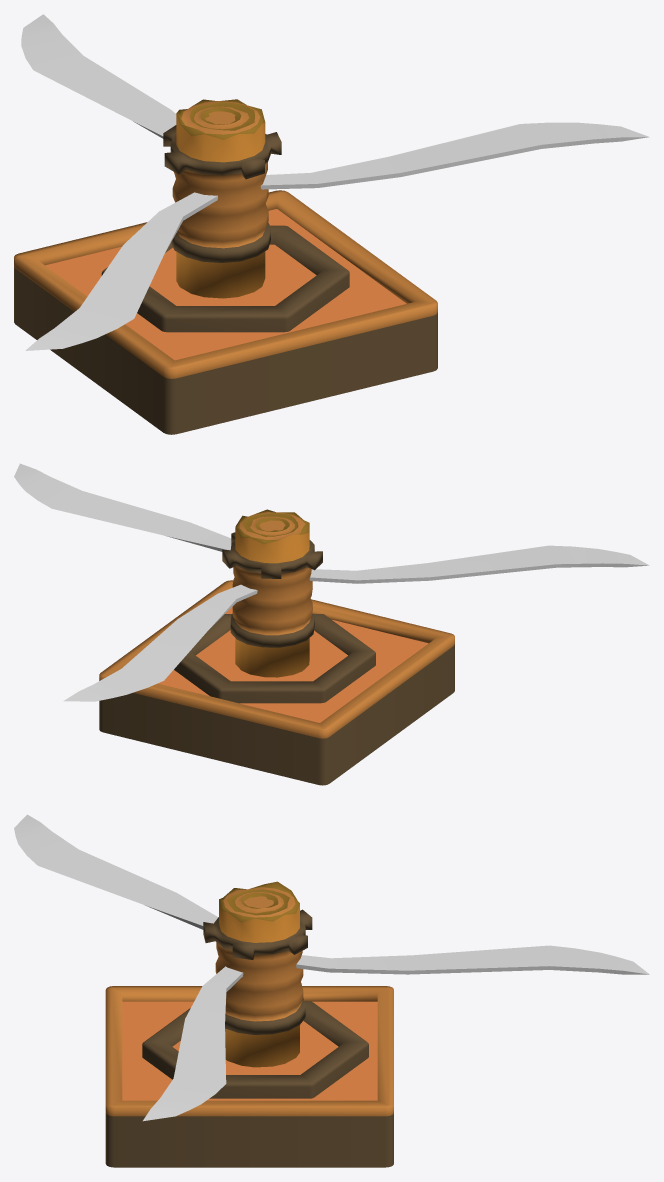
Rendered from Knife_1.fbx.
The picture shows the model from 3 angles, top to bottom: view 1: azimuth 30°, elevation 25°; view 2: azimuth 150°, elevation 25°; view 3: azimuth 270°, elevation 25°; orthographic projection. The views are drawn at different scales.
Visible parts, largest first — view 1: Rotary_knife_1, Knife_1; view 2: Rotary_knife_1, Knife_1; view 3: Rotary_knife_1, Knife_1.
Boxes of the visible parts, x1,y1,x2,y2 form: Rotary_knife_1: [14, 99, 437, 434]; Knife_1: [21, 14, 648, 350]; Rotary_knife_1: [99, 509, 454, 785]; Knife_1: [14, 463, 649, 701]; Rotary_knife_1: [105, 881, 393, 1167]; Knife_1: [14, 814, 649, 1121].
Size of the model in its own units: 5.33 by 1.7 by 4.67.
